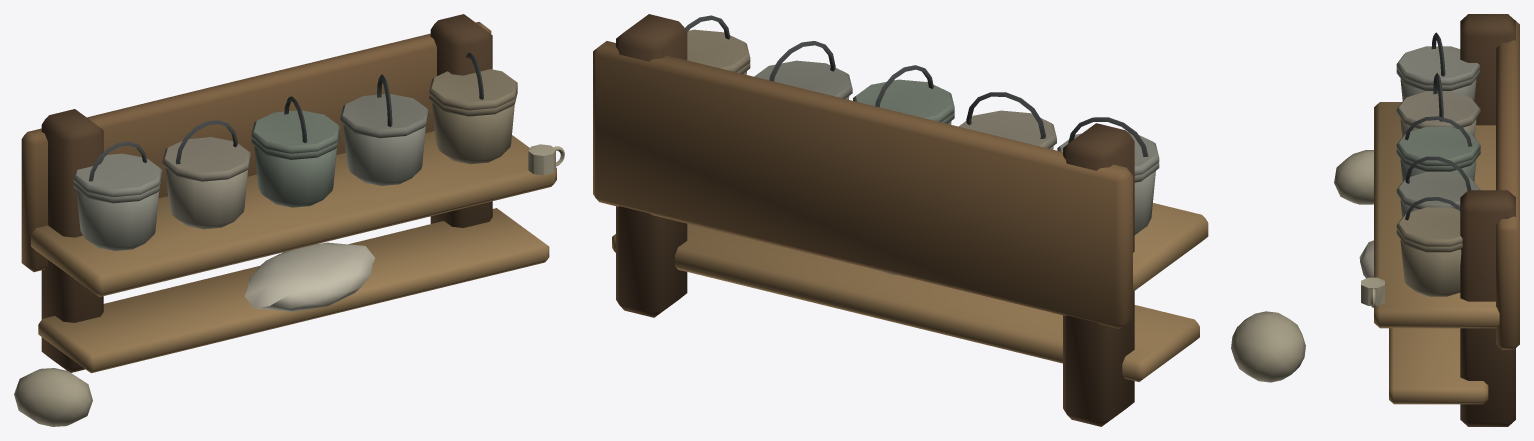
Rendered from lunch_shelf_a.glb.
3 renders of one model, left to right at view 1: azimuth 30°, elevation 25°; view 2: azimuth 150°, elevation 25°; view 3: azimuth 270°, elevation 25°, orthographic. The views are drawn at different scales.
Parts seen in each view (by area): view 1: Surface; view 2: Surface; view 3: Surface.
Part boxes in pixels (box(x1,y1,x2,y2)): Surface: box(14, 14, 564, 426); Surface: box(593, 14, 1305, 426); Surface: box(1334, 14, 1519, 426).
Size of the model in its own units: 2.94 by 1.25 by 0.9362.
